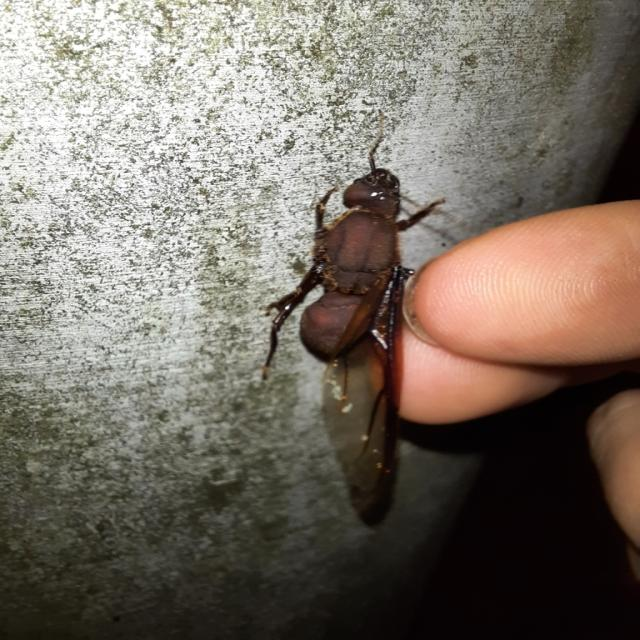Alive-Female-Alate: (260, 108, 447, 532)
